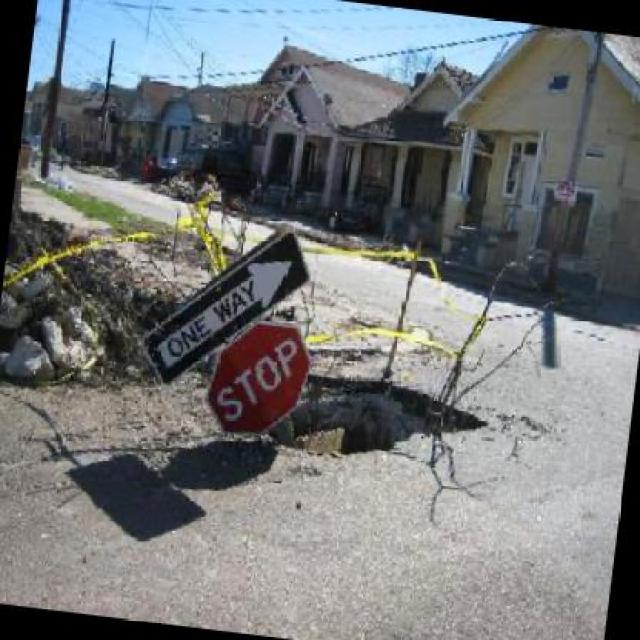pothole1: (253, 352, 496, 478)
